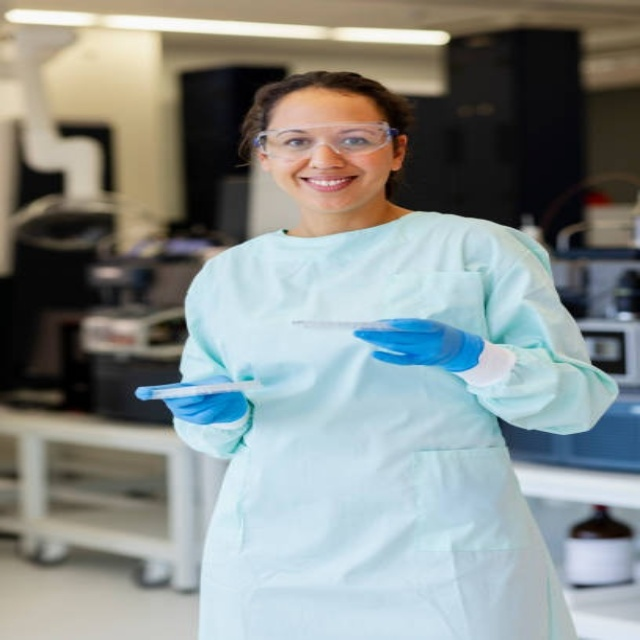Gafas: (254, 123, 400, 160)
Guantes: (354, 319, 490, 375), (138, 375, 250, 427)
Sin_mascara: (290, 168, 362, 200)
